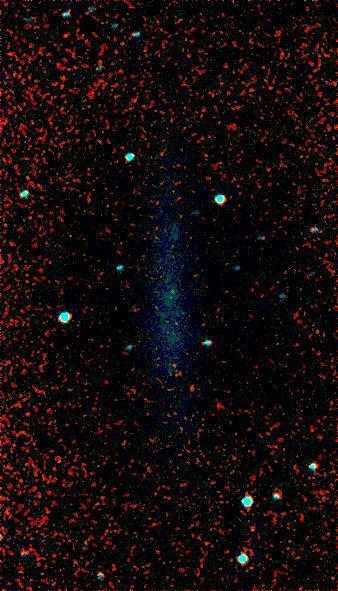star: (178, 372, 208, 402)
